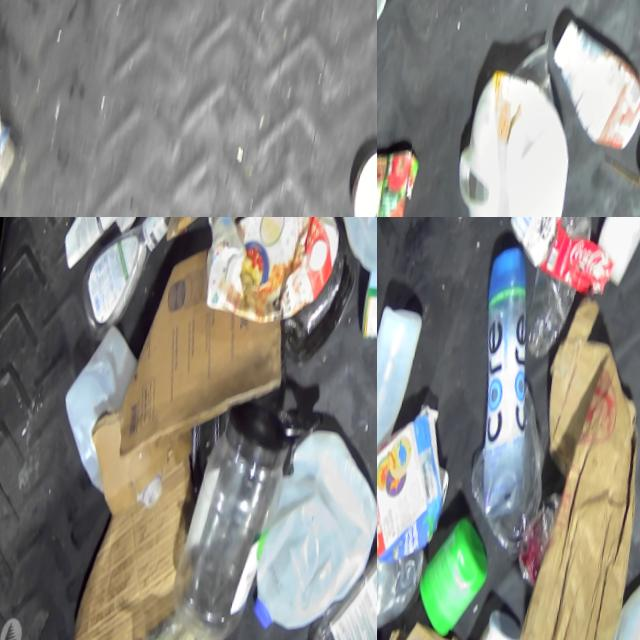can: (501, 217, 574, 274), (377, 142, 418, 217), (336, 147, 377, 217), (360, 266, 377, 355)
milk_jug: (251, 441, 377, 640), (447, 62, 584, 217)
non_white_jug: (448, 244, 558, 534)
plastic_bottle: (519, 217, 603, 367)
